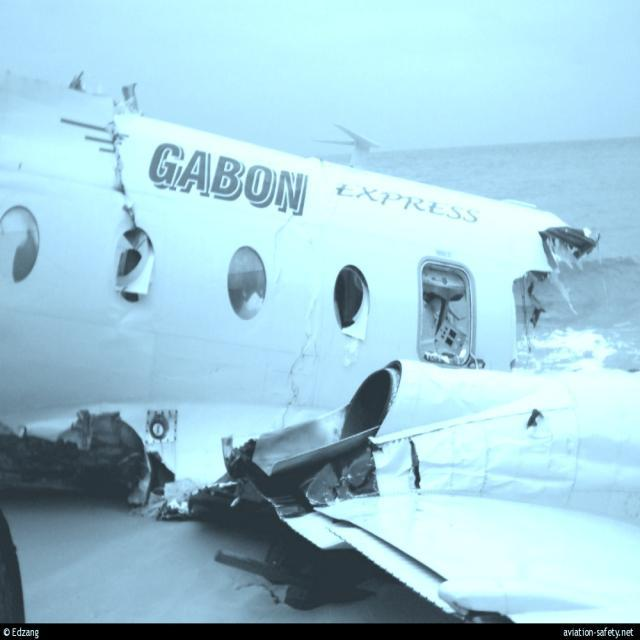crack: (275, 318, 324, 440), (100, 99, 138, 235), (271, 211, 301, 284), (405, 439, 426, 492)
dent: (422, 441, 639, 498)
